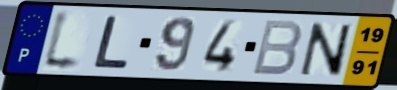4: (201, 19, 239, 74)
9: (153, 15, 197, 74)
B: (249, 18, 304, 78)
L: (39, 8, 85, 75), (90, 14, 131, 71)
N: (298, 21, 353, 79)
